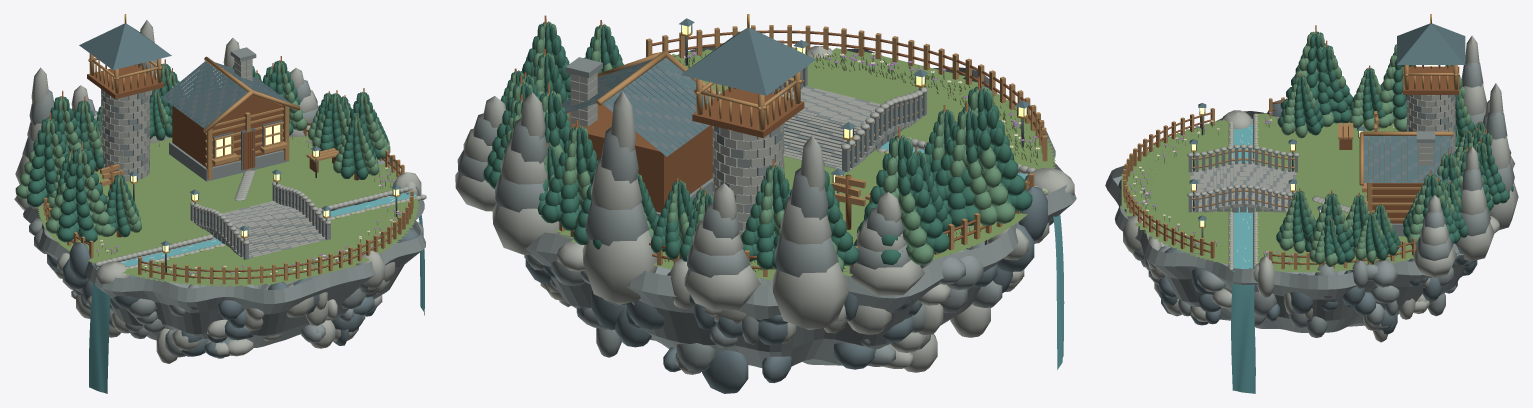
Rendered from alpine.glb.
3 renders of one model, left to right at view 1: azimuth 30°, elevation 25°; view 2: azimuth 150°, elevation 25°; view 3: azimuth 270°, elevation 25°, orthographic. The views are drawn at different scales.
Parts seen in each view (by area): view 1: Alpine_Layered_granite, Alpine_Alpine_meadow, Alpine_Granite_edges, Alpine_Pine_needles, Alpine_Pine_tips, Alpine_Carved_timber, Alpine_Aged_cedar, Alpine_Cliff_shadows, Alpine_Slate_roof, Alpine_waterfall_Silver_jade_water, Alpine_Moss_lit, Alpine_Silver_jade_water (+2 smaller); view 2: Alpine_Granite_edges, Alpine_Layered_granite, Alpine_Pine_needles, Alpine_Cliff_shadows, Alpine_Alpine_meadow, Alpine_Pine_tips, Alpine_Aged_cedar, Alpine_Slate_roof, Alpine_Carved_timber, Alpine_Moss_lit, Alpine_waterfall_Silver_jade_water; view 3: Alpine_Layered_granite, Alpine_Granite_edges, Alpine_Alpine_meadow, Alpine_Pine_needles, Alpine_Pine_tips, Alpine_Carved_timber, Alpine_Slate_roof, Alpine_Cliff_shadows, Alpine_Aged_cedar, Alpine_waterfall_Silver_jade_water.001, Alpine_Silver_jade_water.
Part boxes in pixels (x1,y1,x2,y2): Alpine_Layered_granite: [22, 47, 425, 357]; Alpine_Alpine_meadow: [37, 135, 418, 286]; Alpine_Granite_edges: [14, 20, 426, 363]; Alpine_Pine_needles: [27, 61, 387, 242]; Alpine_Pine_tips: [15, 60, 400, 278]; Alpine_Carved_timber: [43, 53, 413, 284]; Alpine_Aged_cedar: [45, 56, 412, 279]; Alpine_Cliff_shadows: [48, 63, 419, 357]; Alpine_Slate_roof: [79, 23, 401, 246]; Alpine_waterfall_Silver_jade_water: [89, 268, 110, 393]; Alpine_Moss_lit: [78, 135, 416, 281]; Alpine_Silver_jade_water: [121, 192, 421, 266]; Alpine_Granite_edges: [455, 46, 1074, 374]; Alpine_Layered_granite: [457, 46, 1076, 372]; Alpine_Pine_needles: [483, 22, 1032, 269]; Alpine_Cliff_shadows: [525, 57, 1053, 393]; Alpine_Alpine_meadow: [556, 47, 1055, 280]; Alpine_Pine_tips: [505, 21, 1037, 271]; Alpine_Aged_cedar: [514, 15, 1044, 269]; Alpine_Slate_roof: [561, 18, 1030, 175]; Alpine_Carved_timber: [559, 25, 1047, 276]; Alpine_Moss_lit: [664, 51, 1045, 272]; Alpine_waterfall_Silver_jade_water: [1053, 214, 1064, 369]; Alpine_Layered_granite: [1105, 62, 1514, 337]; Alpine_Granite_edges: [1121, 35, 1518, 342]; Alpine_Alpine_meadow: [1121, 113, 1489, 272]; Alpine_Pine_needles: [1276, 31, 1513, 264]; Alpine_Pine_tips: [1131, 31, 1492, 266]; Alpine_Carved_timber: [1123, 65, 1458, 269]; Alpine_Slate_roof: [1189, 23, 1465, 220]; Alpine_Cliff_shadows: [1118, 100, 1477, 334]; Alpine_Aged_cedar: [1124, 25, 1486, 264]; Alpine_waterfall_Silver_jade_water.001: [1231, 283, 1255, 393]; Alpine_Silver_jade_water: [1232, 119, 1252, 271].
Size of the model in its own units: 11.84 by 9 by 12.1.
